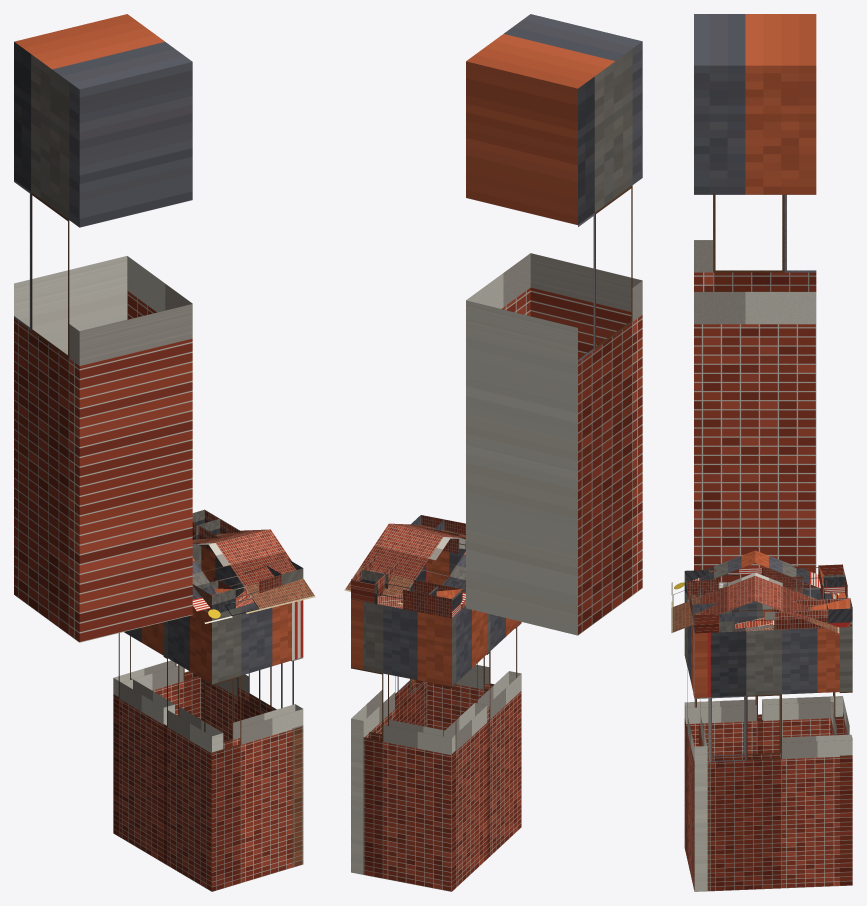
3 renders of one model, left to right at view 1: azimuth 30°, elevation 25°; view 2: azimuth 150°, elevation 25°; view 3: azimuth 270°, elevation 25°, orthographic. The views are drawn at different scales.
Parts seen in each view (by area): view 1: 238572334__chimney_0_xb, 238572334__wall_4_xb, 238572334__wall_3_xb, 238572334__wall_2_xb, 238572334__wall_0_xb, 238572334_roof_-1_xb, 238572334__wall_1_xb, 238572334__cornice_4, 238572334__cornice_0; view 2: 238572334__chimney_0_xb, 238572334__wall_1_xb, 238572334__wall_2_xb, 238572334__wall_3_xb, 238572334__wall_0_xb, 238572334_roof_1_xb, 238572334__wall_4_xb, 238572334__cornice_1, 238572334__cornice_0, 238572334__cornice_4; view 3: 238572334__chimney_0_xb, 238572334__wall_0_xb, 238572334__wall_4_xb, 238572334__wall_3_xb, 238572334__wall_2_xb, 238572334__wall_1_xb, 238572334_roof_-1_xb, 238572334_roof_1_xb, 238572334__cornice_0, 238572334__cornice_2, 238572334__cornice_1, 238572334__cornice_4 (+1 smaller).
Part boxes in pixels (bbox=[...]): 238572334__chimney_0_xb: bbox=[14, 14, 192, 642]; 238572334__wall_4_xb: bbox=[204, 602, 303, 891]; 238572334__wall_3_xb: bbox=[163, 605, 223, 891]; 238572334__wall_2_xb: bbox=[113, 622, 174, 862]; 238572334__wall_0_xb: bbox=[193, 546, 303, 867]; 238572334_roof_-1_xb: bbox=[192, 529, 315, 623]; 238572334__wall_1_xb: bbox=[113, 544, 201, 719]; 238572334__cornice_4: bbox=[197, 560, 283, 612]; 238572334__cornice_0: bbox=[192, 509, 303, 585]; 238572334__chimney_0_xb: bbox=[466, 14, 642, 635]; 238572334__wall_1_xb: bbox=[351, 601, 456, 891]; 238572334__wall_2_xb: bbox=[439, 604, 487, 891]; 238572334__wall_3_xb: bbox=[477, 613, 521, 858]; 238572334__wall_0_xb: bbox=[351, 562, 427, 874]; 238572334_roof_1_xb: bbox=[344, 523, 465, 616]; 238572334__wall_4_xb: bbox=[415, 548, 521, 730]; 238572334__cornice_1: bbox=[362, 569, 462, 618]; 238572334__cornice_0: bbox=[351, 515, 444, 603]; 238572334__cornice_4: bbox=[411, 515, 465, 553]; 238572334__chimney_0_xb: bbox=[694, 14, 816, 582]; 238572334__wall_0_xb: bbox=[693, 625, 852, 891]; 238572334__wall_4_xb: bbox=[684, 590, 707, 891]; 238572334__wall_3_xb: bbox=[684, 587, 763, 755]; 238572334__wall_2_xb: bbox=[762, 588, 843, 753]; 238572334__wall_1_xb: bbox=[830, 593, 852, 885]; 238572334_roof_-1_xb: bbox=[671, 550, 755, 632]; 238572334_roof_1_xb: bbox=[755, 550, 839, 632]; 238572334__cornice_0: bbox=[692, 598, 852, 632]; 238572334__cornice_2: bbox=[762, 566, 844, 593]; 238572334__cornice_1: bbox=[818, 564, 852, 627]; 238572334__cornice_4: bbox=[684, 570, 718, 633].
Size of the model in its own units: 0.2967 by 1.05 by 0.2228.
Materials: 1 (1 with a texture image).
